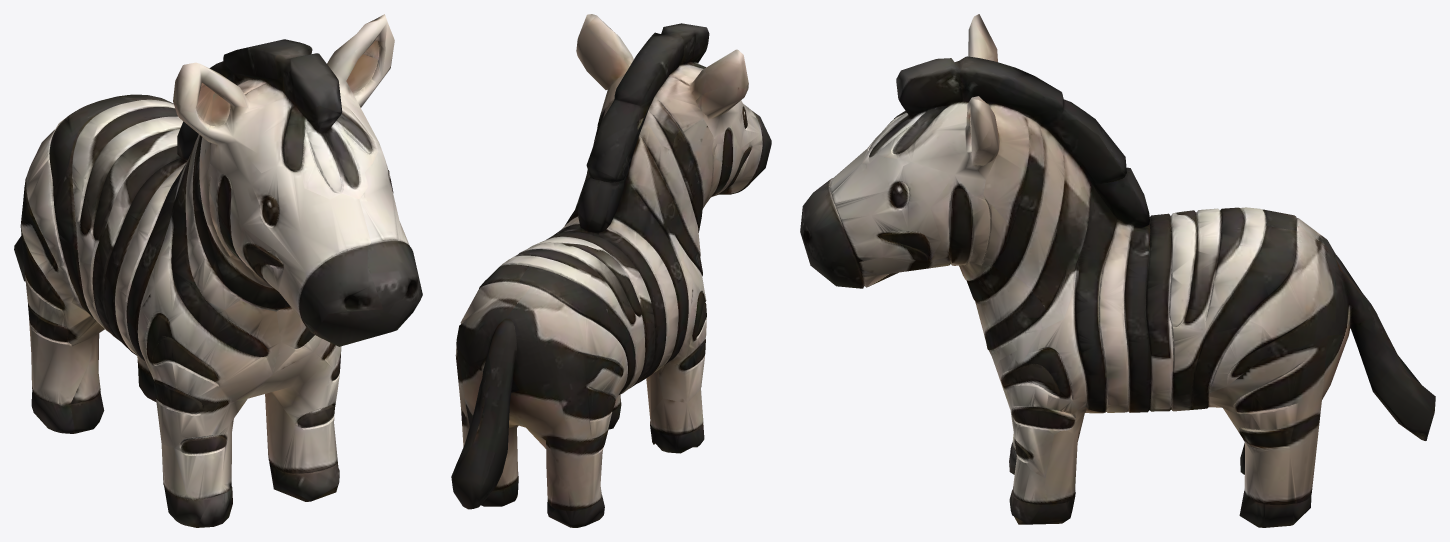
Rendered from zebra_pbr.glb.
3 views of the same model, side by side, from view 1: azimuth 30°, elevation 25°; view 2: azimuth 150°, elevation 25°; view 3: azimuth 270°, elevation 25° (orthographic). The views are drawn at different scales.
Visible parts, largest first — view 1: model.019; view 2: model.019; view 3: model.019.
Part boxes in pixels (bbox=[...]): model.019: bbox=[14, 14, 422, 527]; model.019: bbox=[451, 14, 771, 527]; model.019: bbox=[800, 14, 1435, 527].
Size of the model in its own units: 0.6715 by 1.46 by 1.93.
Materials: 1 (1 with a texture image).
